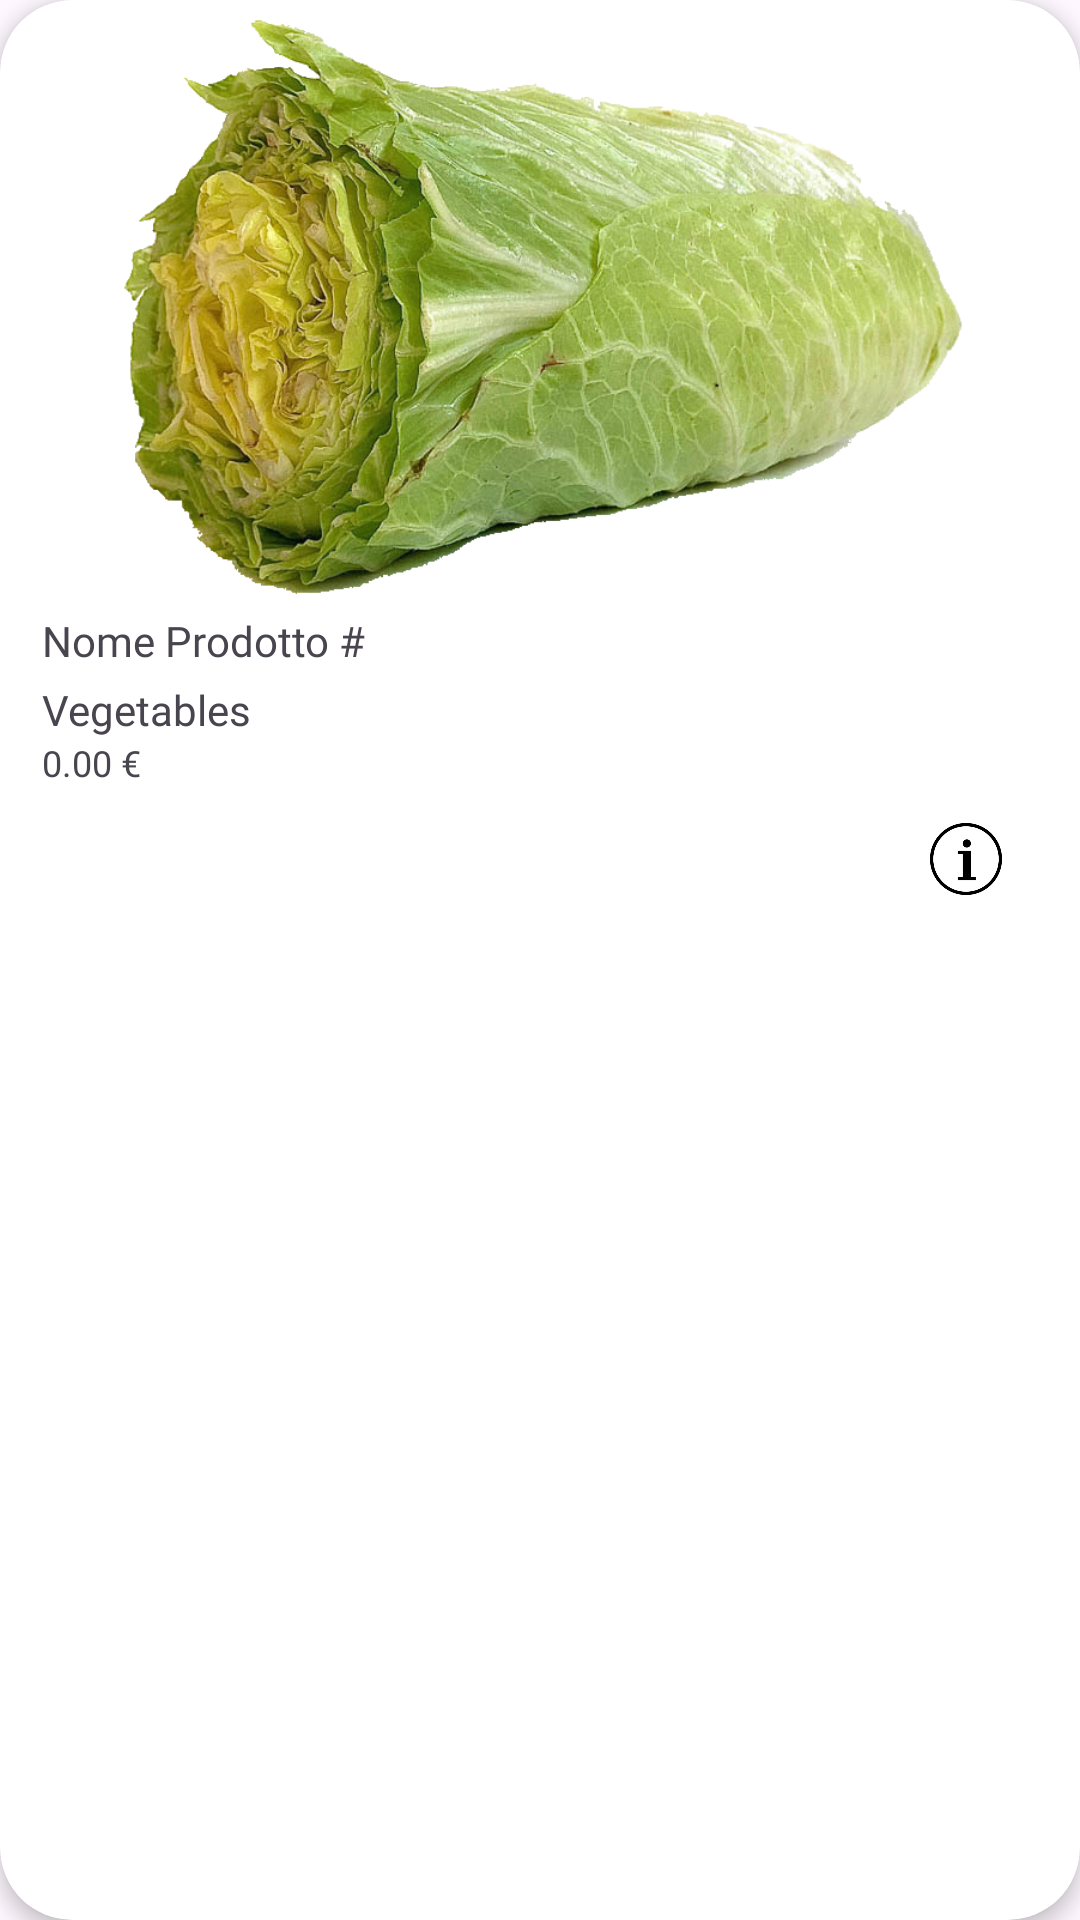

Named icons in this screenshot (1080 x 1920) and their bounding boxes, (x1, y1, x2, y2):
info: (930, 823, 1002, 895)
